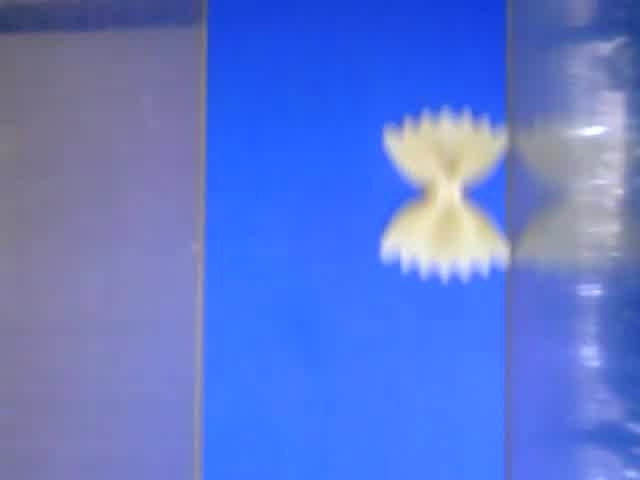farfalle: (380, 106, 513, 282)
